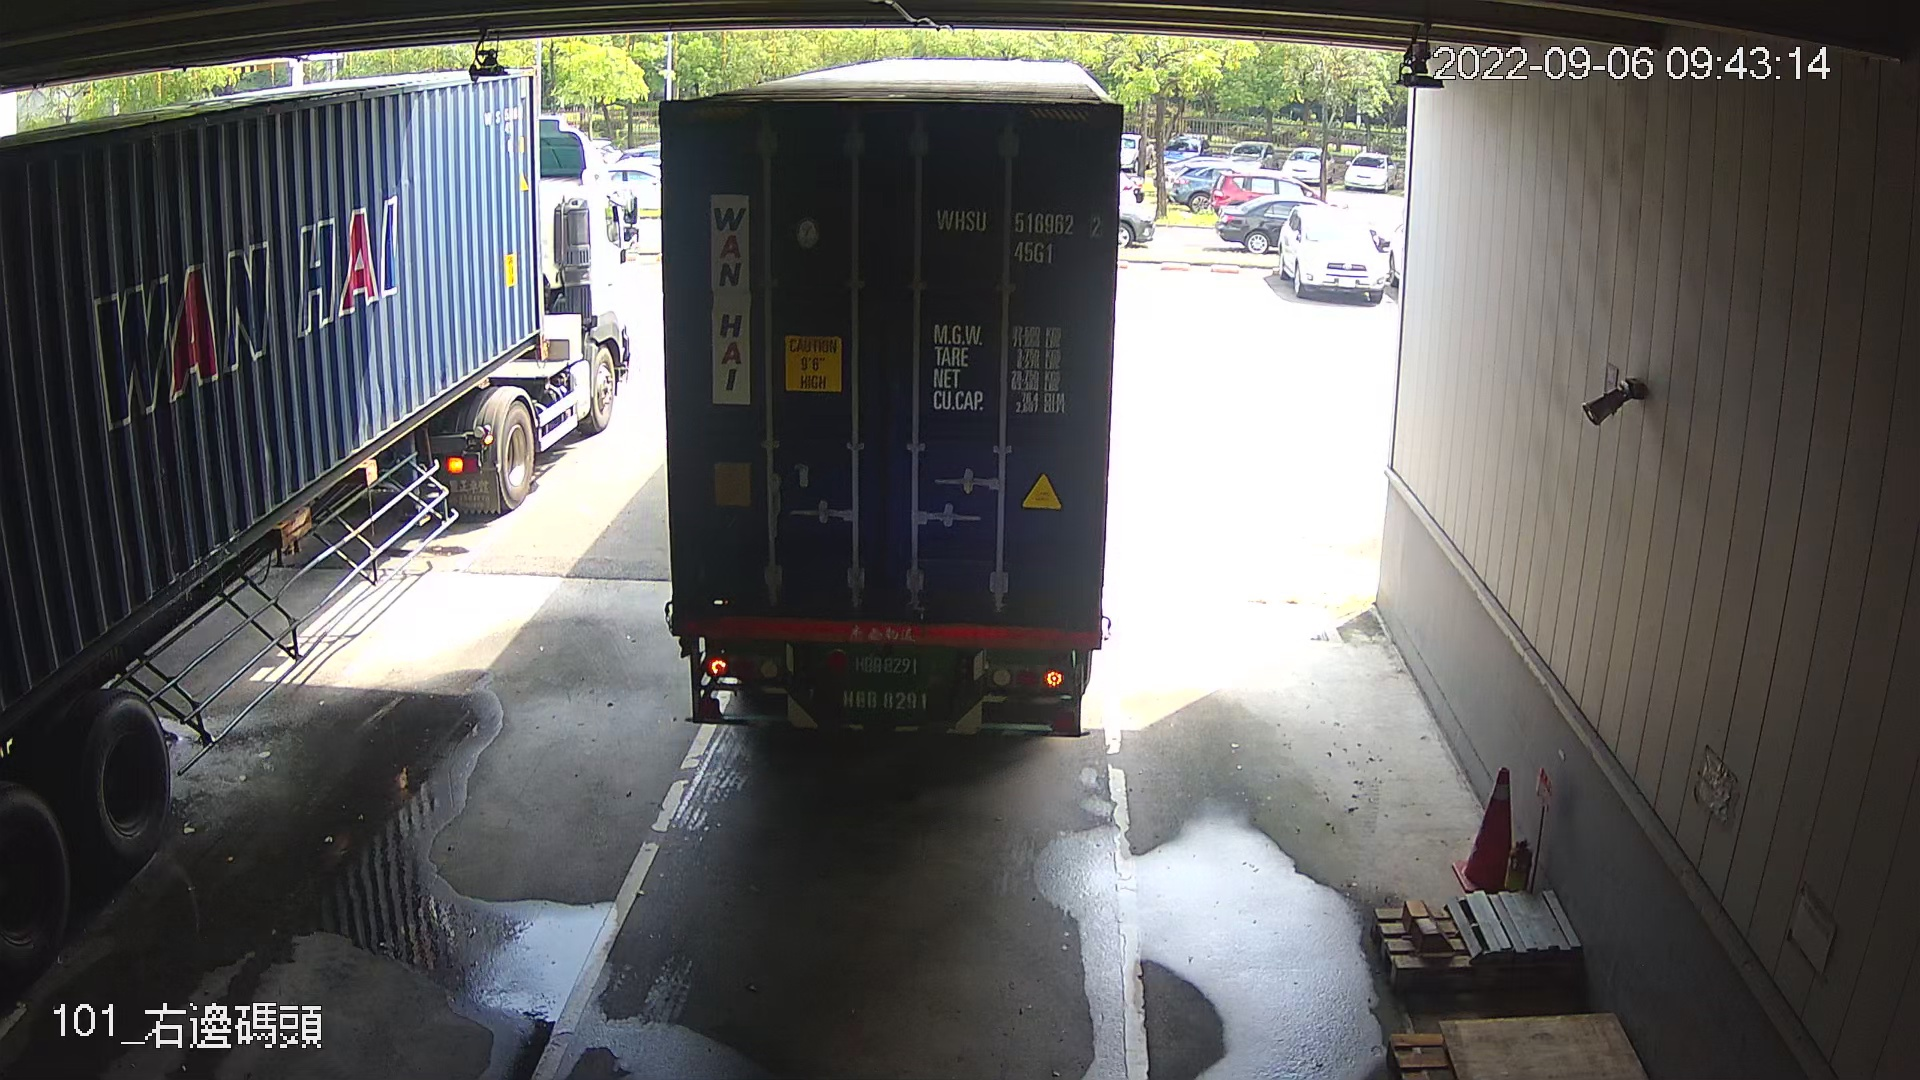container: (928, 196, 1109, 272)
